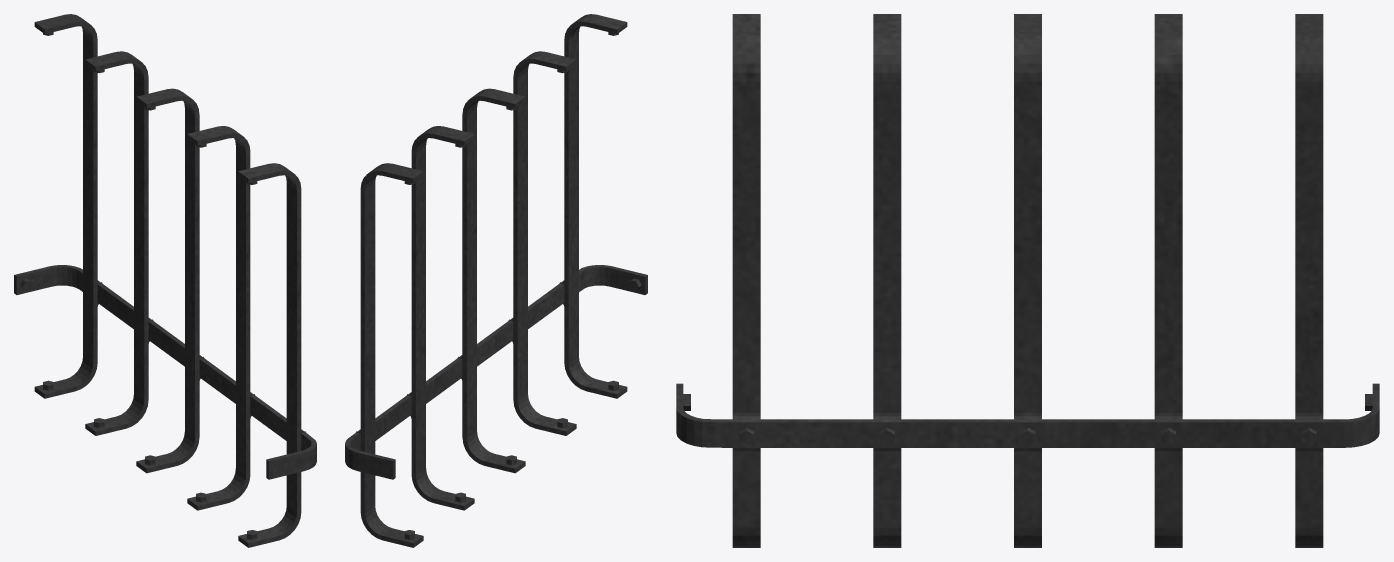
3 renders of one model, left to right at view 1: azimuth 30°, elevation 25°; view 2: azimuth 150°, elevation 25°; view 3: azimuth 270°, elevation 25°, orthographic. The views are drawn at different scales.
Parts seen in each view (by area): view 1: metal_bars_single; view 2: metal_bars_single; view 3: metal_bars_single.
Part boxes in pixels (bbox=[...]): metal_bars_single: bbox=[14, 14, 316, 547]; metal_bars_single: bbox=[345, 14, 647, 547]; metal_bars_single: bbox=[676, 14, 1379, 547].
Size of the model in its own units: 0.141 by 0.8 by 1.
1 material, 1 textured.
